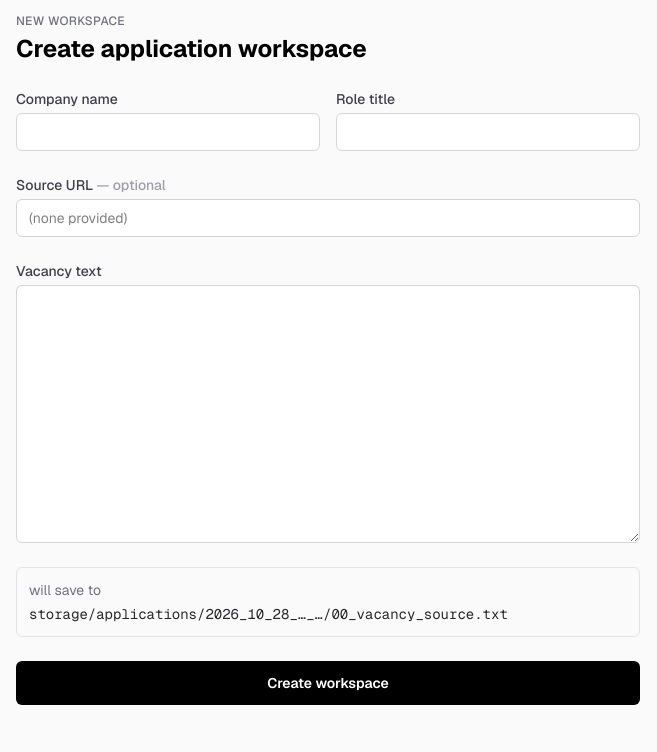
Test: NewWorkspacePage › stays on the form and shows validation errors returned by the server action
Type "Acme Corp" into the field labelled "Company name" at [168, 132], box [16, 113, 320, 151]
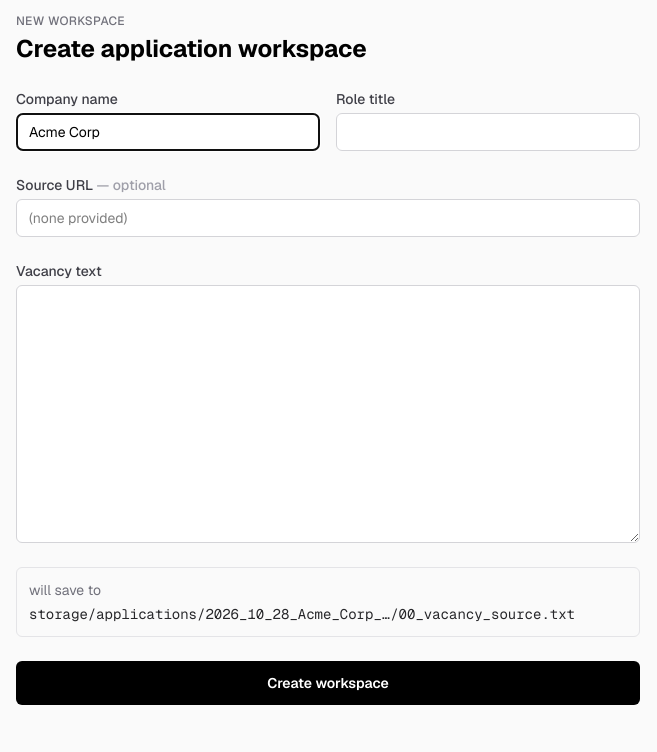
Type "Backend Developer" into the field labelled "Role title" at [488, 132], box [336, 113, 640, 151]
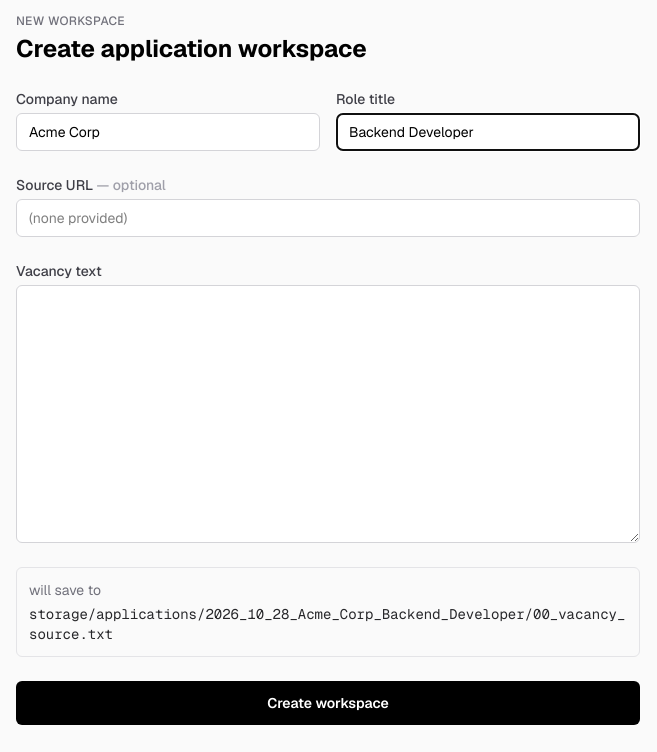
Type "short" into the text box labelled "Vacancy text" at [328, 414], box [16, 285, 640, 543]
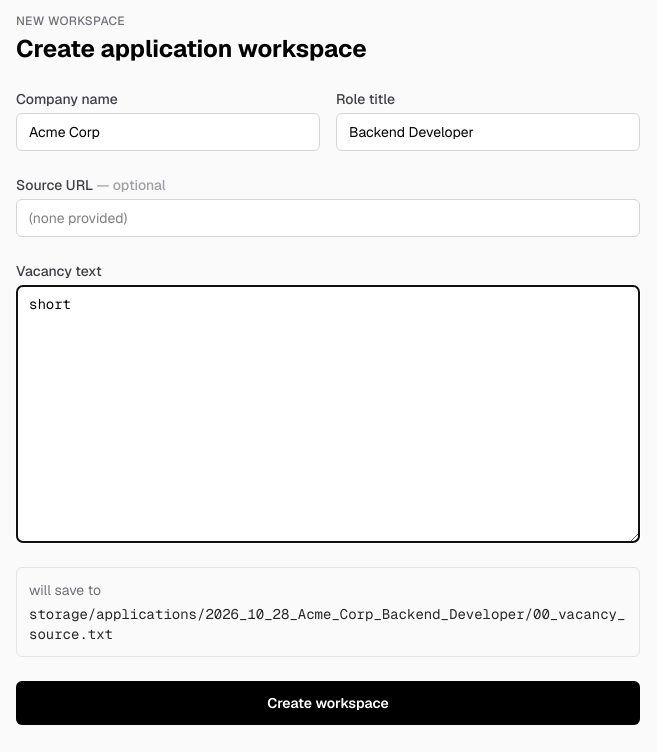
Click the button "Create workspace" at [328, 703], box [16, 681, 640, 725]
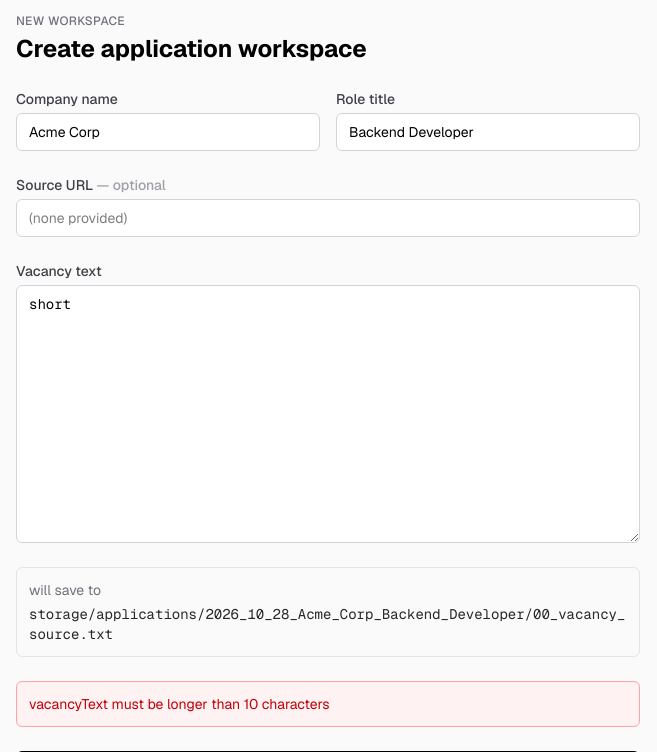
expect the list item "vacancyText must be longer than 10 characters" is shown: met, box [29, 695, 330, 713]
